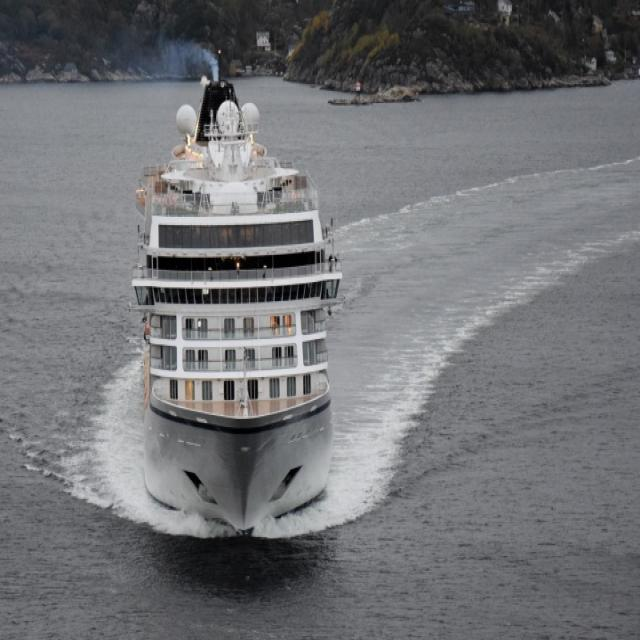cruises: (127, 70, 352, 539)
